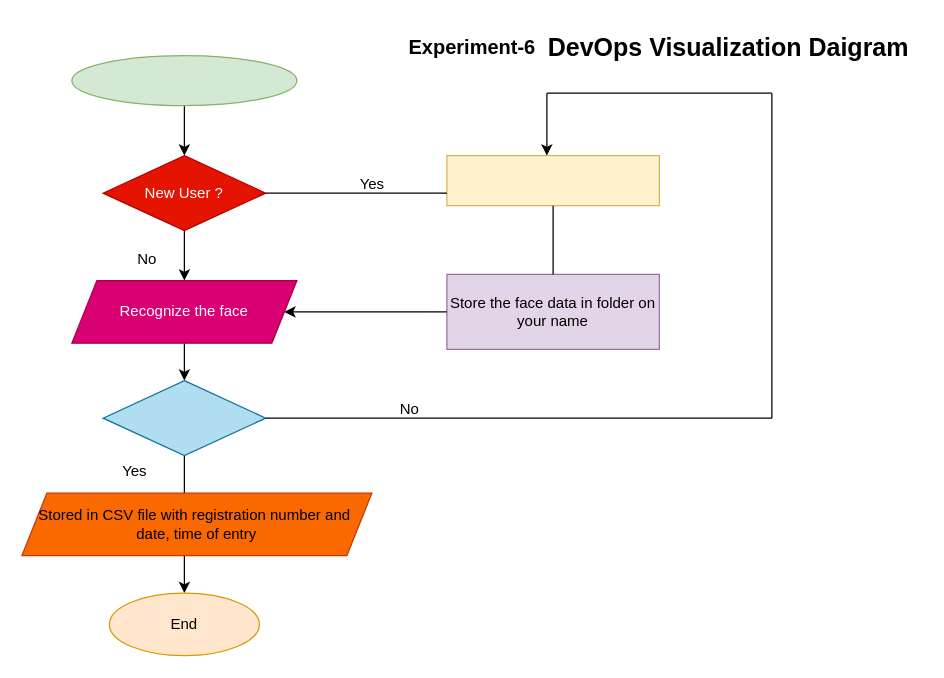
The diagram is 944 pixels wide and 678 high, and some of its shapes have lost their labels. The centre of each missing label's shape, as x and y in pixels:
"Face recongized" goes at (x=184, y=417).
"Give your Photograph" goes at (x=552, y=180).
"Start" goes at (x=184, y=80).
